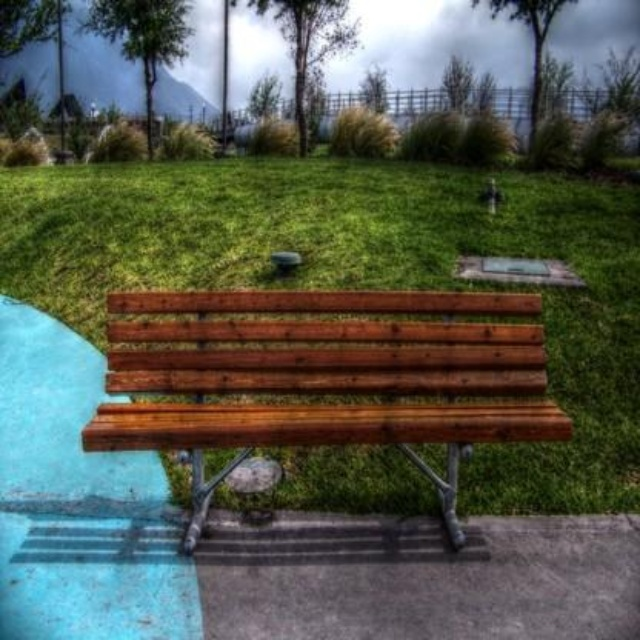obstacle: (86, 271, 600, 562)
